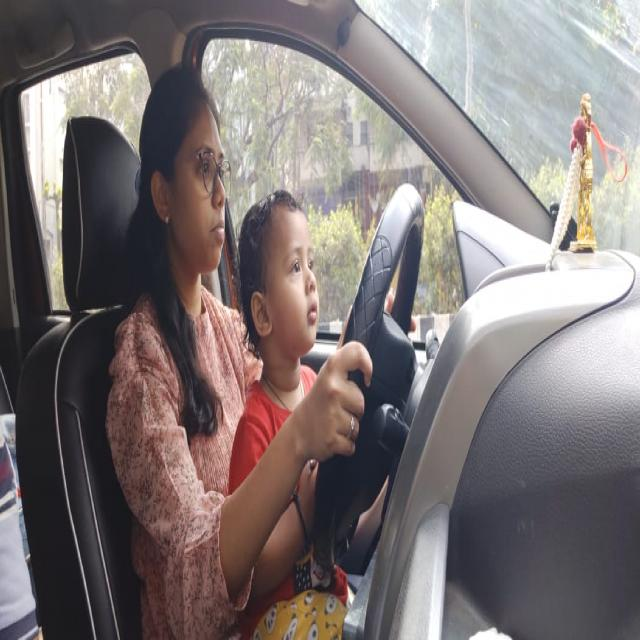child: (236, 185, 329, 371)
person: (121, 56, 232, 312)
